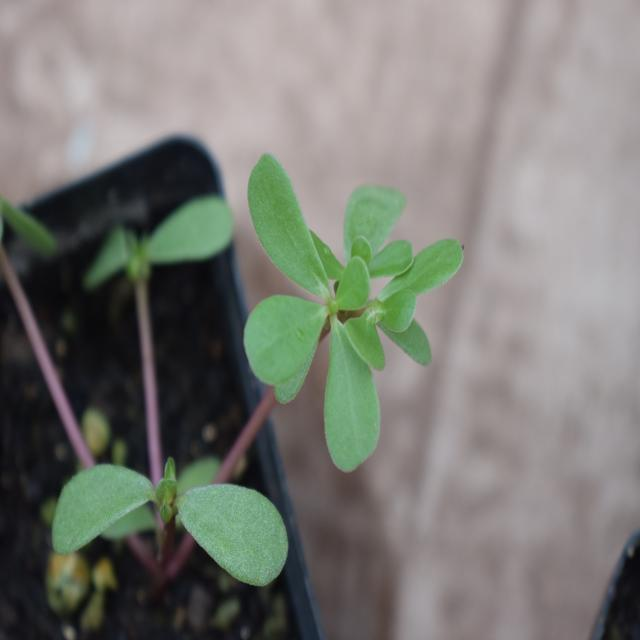purslane: (243, 128, 484, 492), (47, 436, 298, 584)
